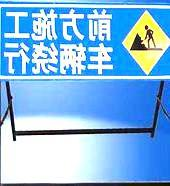sign: (1, 3, 169, 80)
